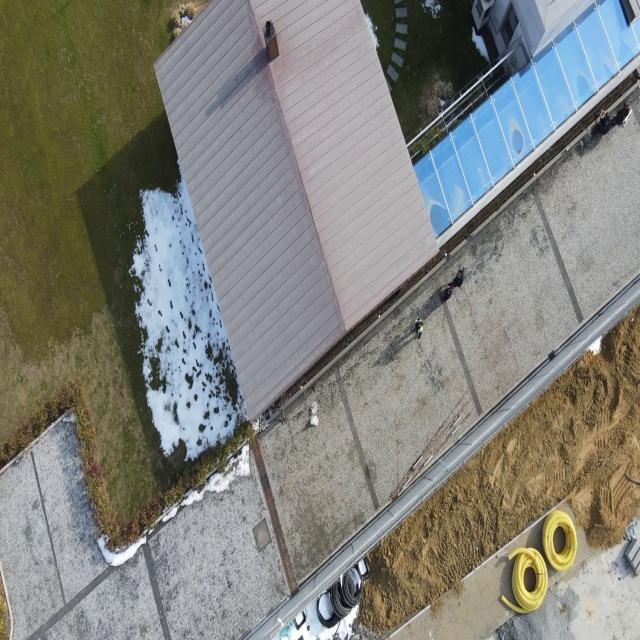p3rson: (610, 100, 629, 126), (452, 265, 466, 287), (411, 316, 423, 340), (600, 108, 611, 133), (444, 282, 454, 300)
